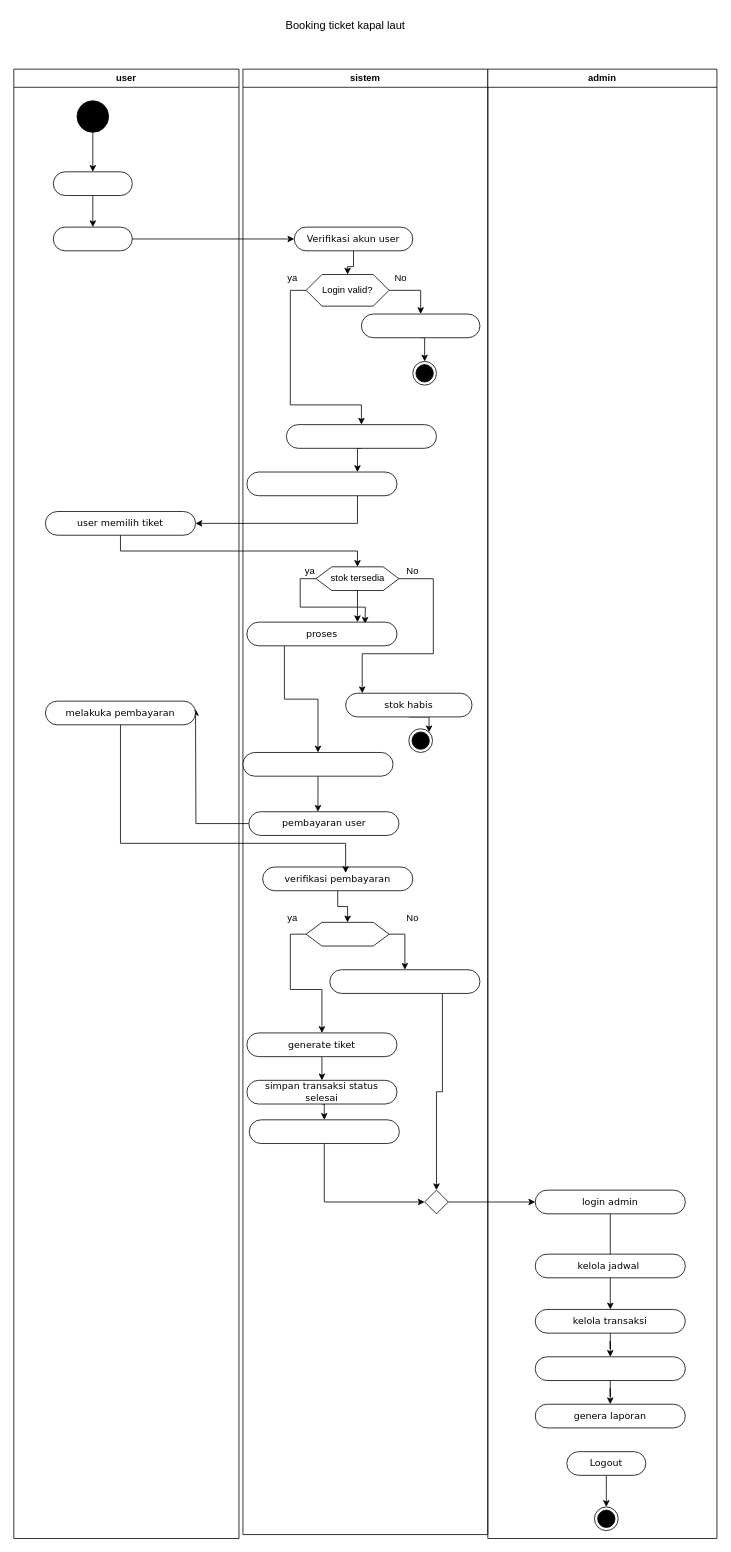
This 731x1552 diagram has some shape labels left out. The centre of each missing label's shape, as x and y in pixels:
"halaman utama" goes at point (92, 183).
"kelola user" goes at point (609, 1368).
"lgin ggal" goes at point (420, 325).
"login" goes at point (92, 238).
"pembayaran dibatalkan" goes at point (404, 981).
"pembayran valid" goes at point (347, 934).
"simpan transaksi" goes at point (317, 764).
"tampilkan dasbor user" goes at point (361, 436).
"tampilkan jadwal" goes at point (321, 483).
"tampilkan tiket ke user" goes at point (323, 1131).
